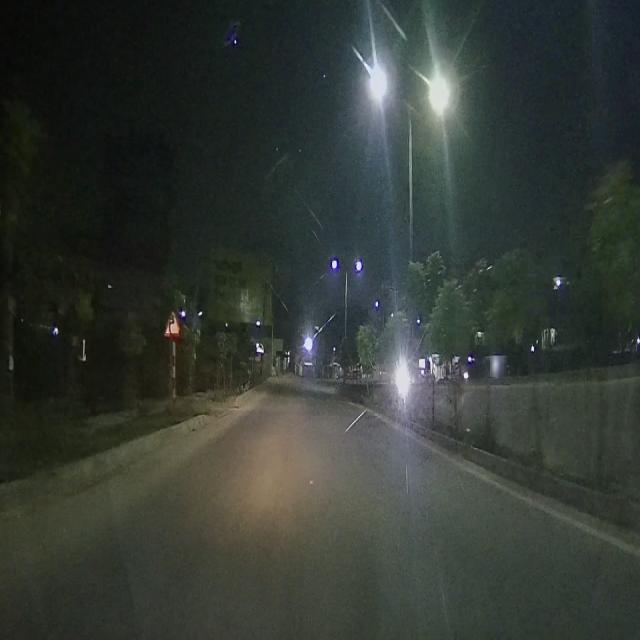right-hand-curve: (160, 307, 183, 336)
